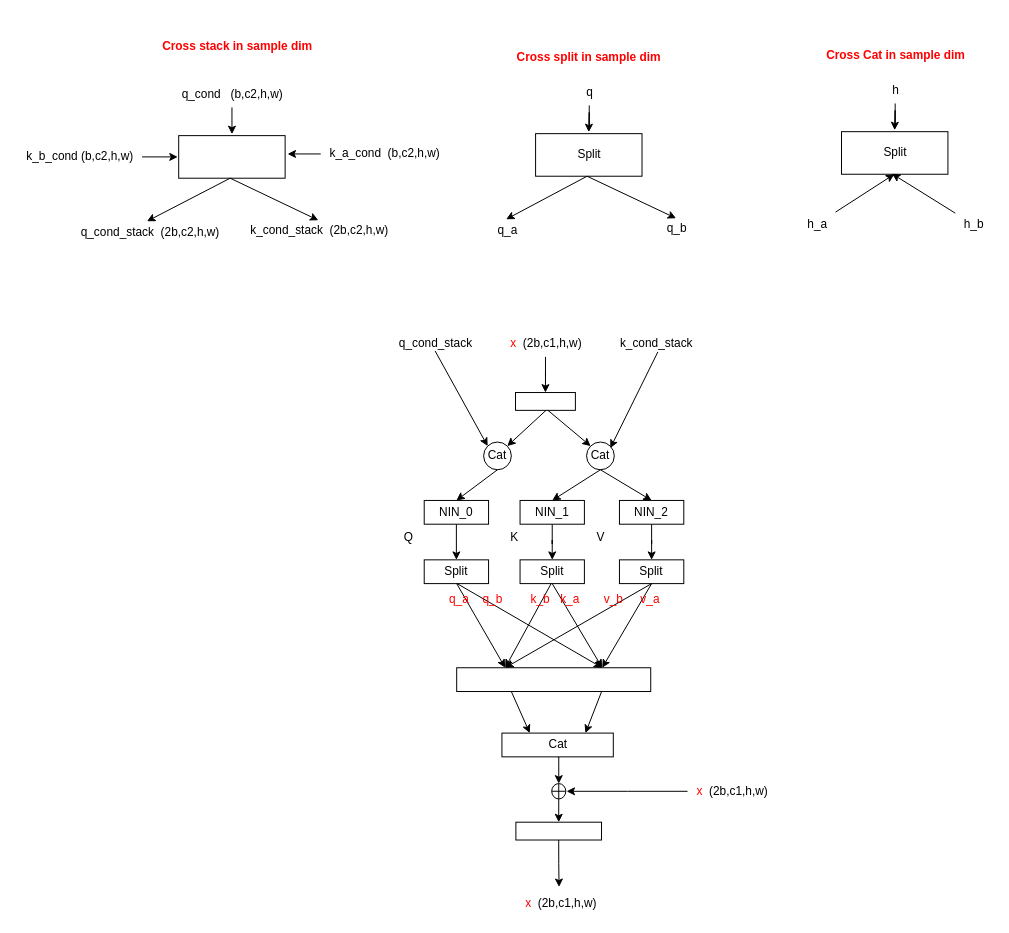
Some shapes in this 1009 by 933 pixel diagram are drawn without their labels. Each missing label, with the box of its shape:
GN: (515, 392, 575, 410)
Mutihead_Channell Attention: (456, 667, 651, 692)
Rescale(Y/N): (515, 821, 602, 840)
Stack_rays: (178, 135, 285, 178)
